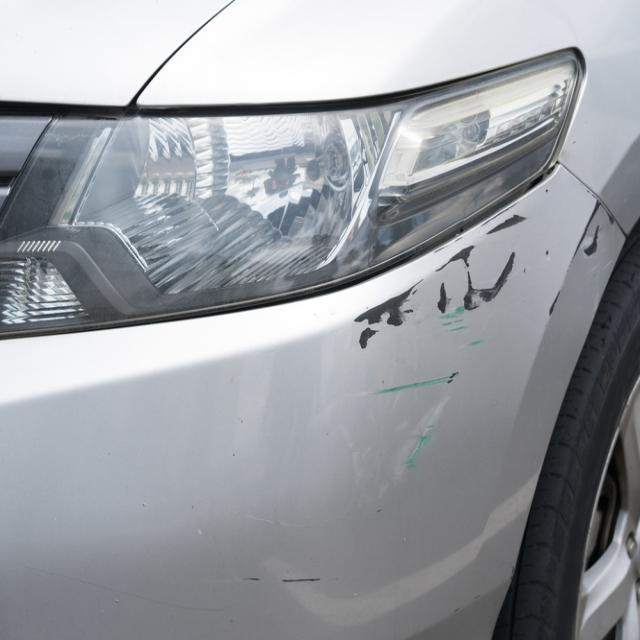scratch: (353, 196, 610, 496), (230, 572, 344, 590)
